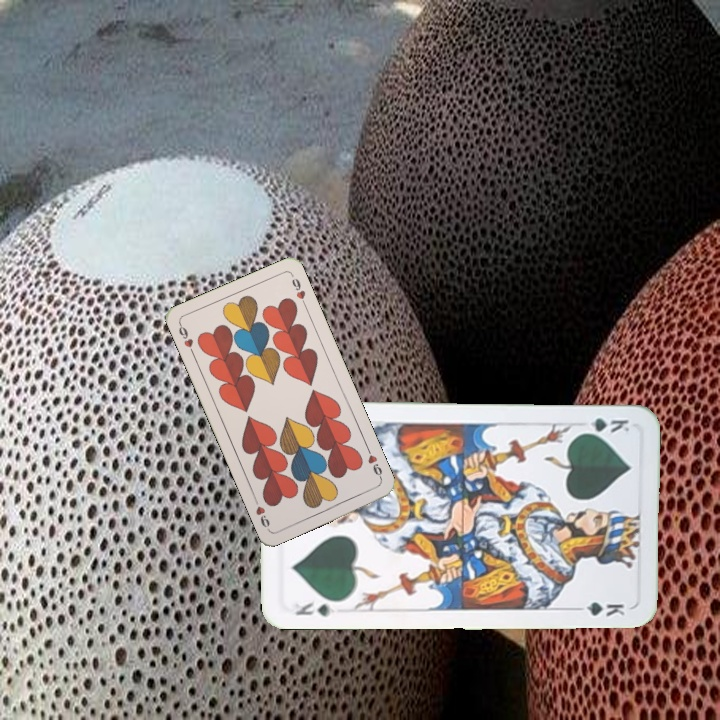GK: (575, 414, 632, 436), (291, 598, 337, 619)
H9: (174, 319, 197, 358), (363, 444, 385, 483)
